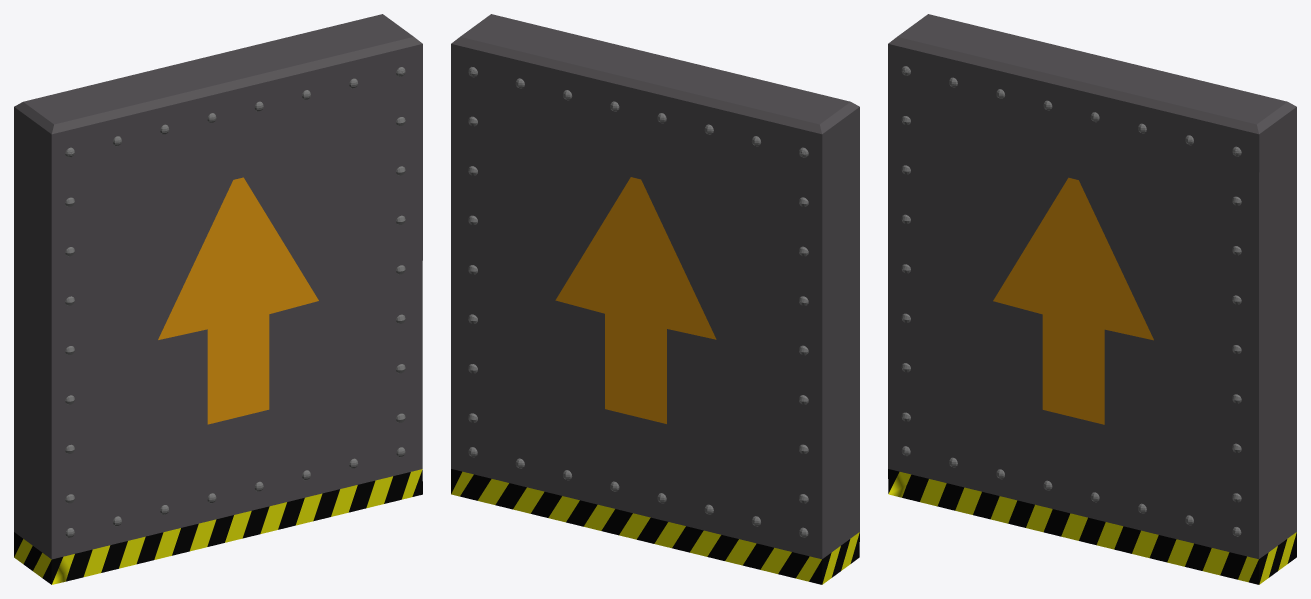
The model's file is MetalWallYellowDown.glb.
The picture shows the model from 3 angles, left to right: view 1: azimuth 30°, elevation 25°; view 2: azimuth 150°, elevation 25°; view 3: azimuth 330°, elevation 25°; orthographic projection.
Visible parts, largest first — view 1: Cube.001, Plane.003; view 2: Cube.001, Plane.002; view 3: Cube.001, Plane.003.
Boxes of the visible parts, <box> form: Cube.001: <box>14,14,422,584</box>; Plane.003: <box>158,177,318,424</box>; Cube.001: <box>451,14,859,584</box>; Plane.002: <box>555,177,716,423</box>; Cube.001: <box>888,14,1296,584</box>; Plane.003: <box>993,177,1153,424</box>.
Size of the model in its own units: 1.92 by 2.25 by 0.3747.
